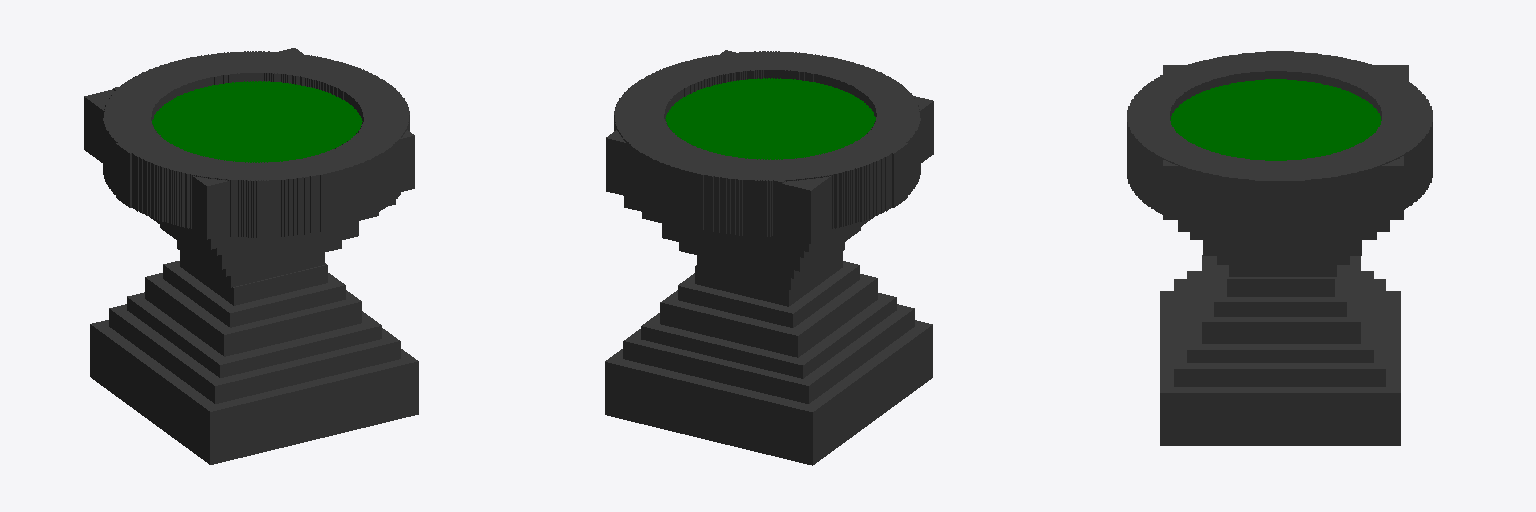
The picture shows the model from 3 angles: view 1: azimuth 30°, elevation 25°; view 2: azimuth 150°, elevation 25°; view 3: azimuth 270°, elevation 25°; orthographic projection.
Visible parts, largest first — view 1: Model; view 2: Model; view 3: Model.
Boxes of the visible parts, x1,y1,x2,y2 form: Model: [84, 48, 418, 464]; Model: [605, 50, 933, 465]; Model: [1127, 51, 1432, 445].
Size of the model in its own units: 230 by 231 by 229.
1 materials, 1 textured.